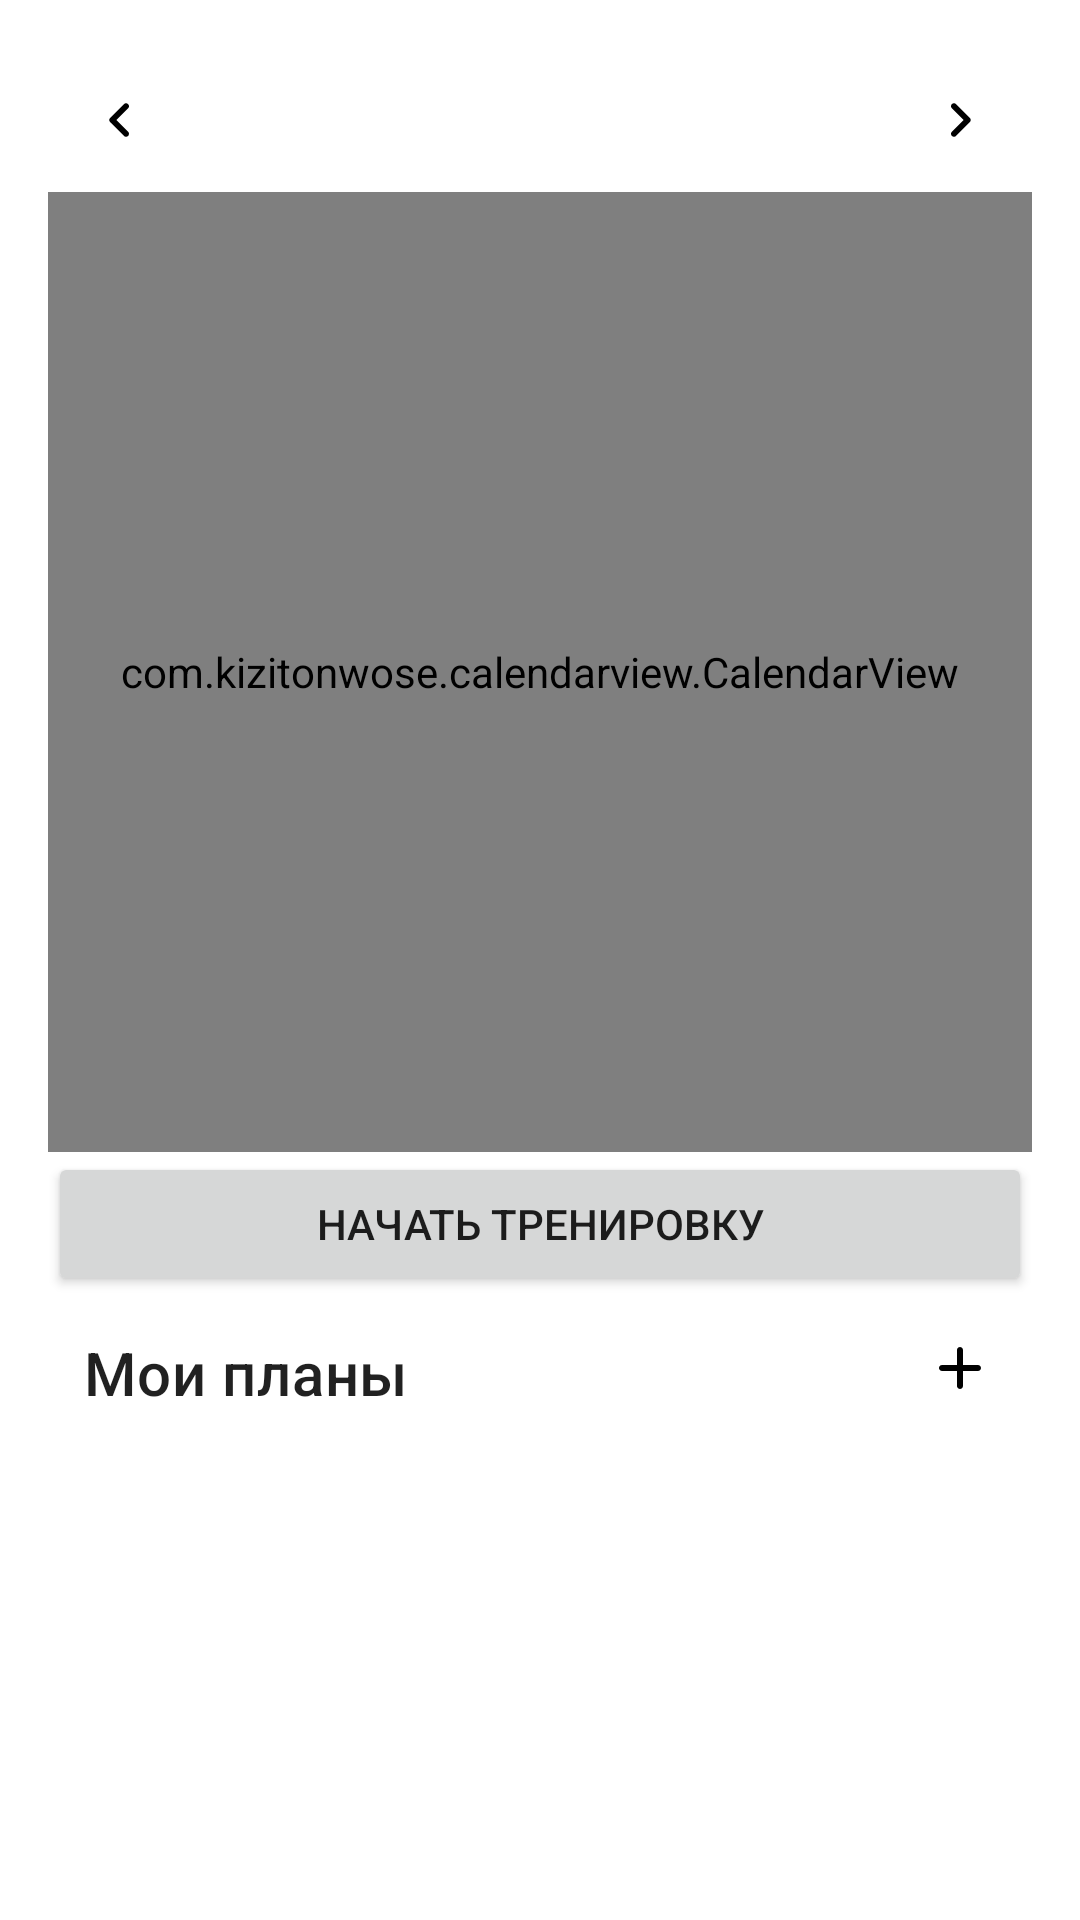

Where icons sit on this 1080*1920 app screen, as (x1, y1, x2, y2):
keyboard arrow left: (109, 103, 129, 137)
keyboard arrow right: (951, 103, 971, 137)
